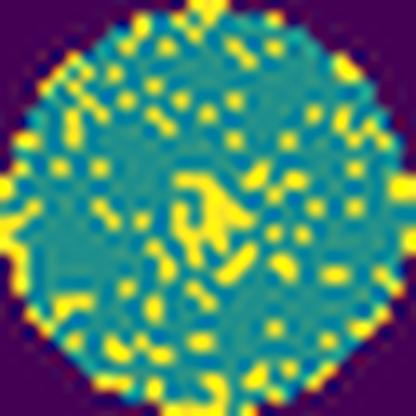Center: (164, 168, 258, 271)
